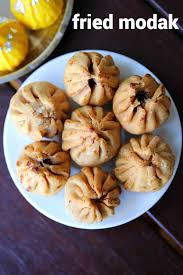modak: (53, 43, 122, 107), (109, 73, 175, 138), (59, 164, 130, 223), (9, 137, 76, 196), (9, 82, 68, 144), (117, 134, 176, 192), (66, 110, 123, 165)
